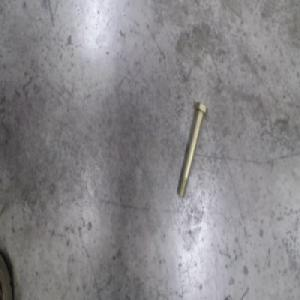Bolt: (175, 101, 208, 200)
